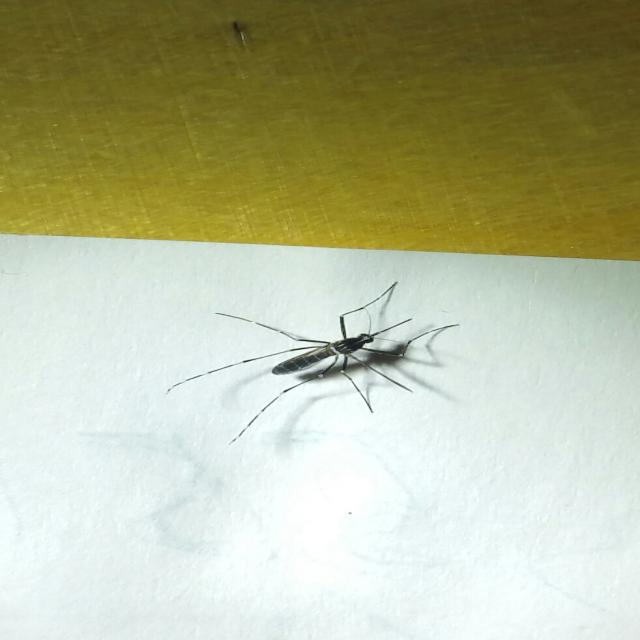albopictus: (175, 281, 463, 447)
